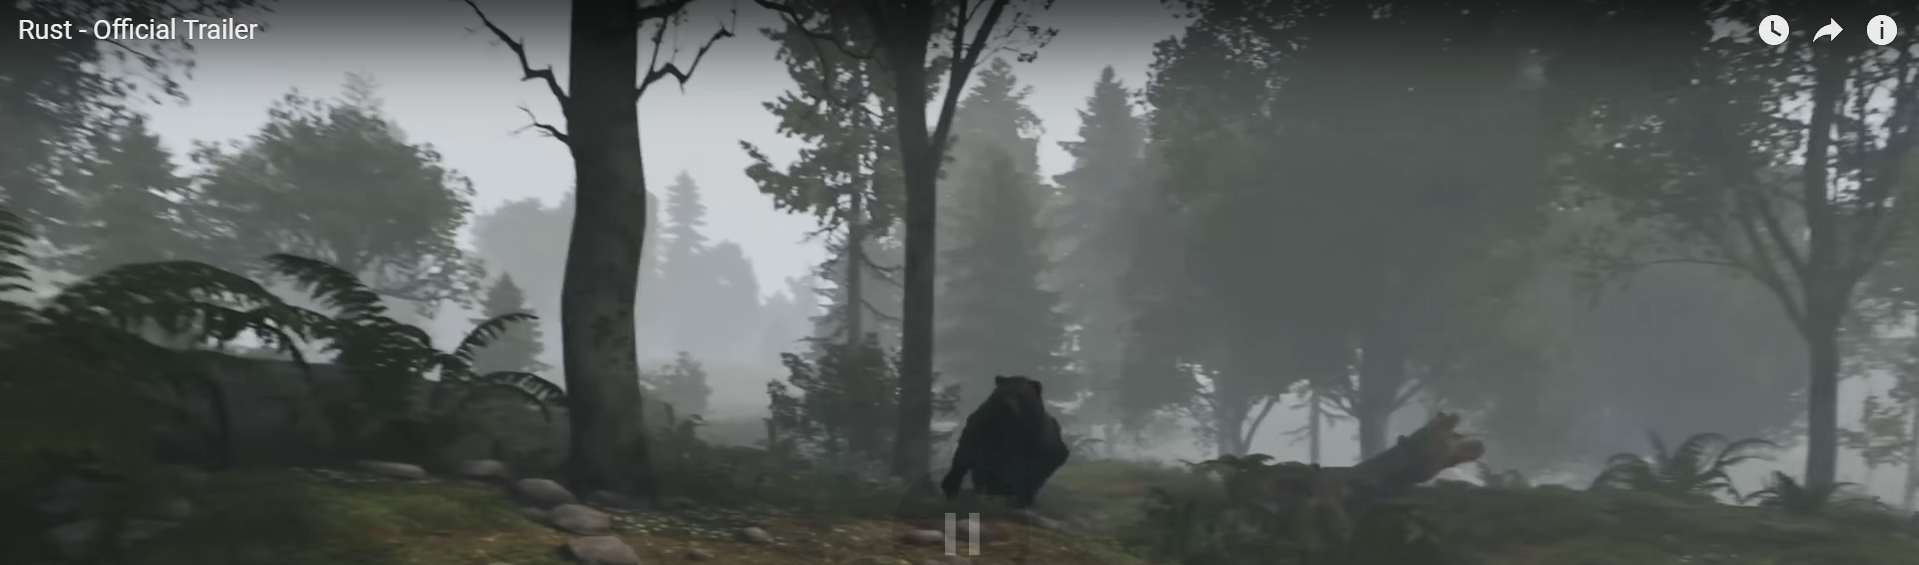tree: (251, 99, 458, 412), (1081, 70, 1218, 472), (1158, 90, 1287, 486), (576, 1, 667, 495), (1786, 10, 1860, 512), (946, 138, 1068, 427), (1332, 1, 1401, 481), (1190, 412, 1488, 500), (885, 1, 939, 484)
